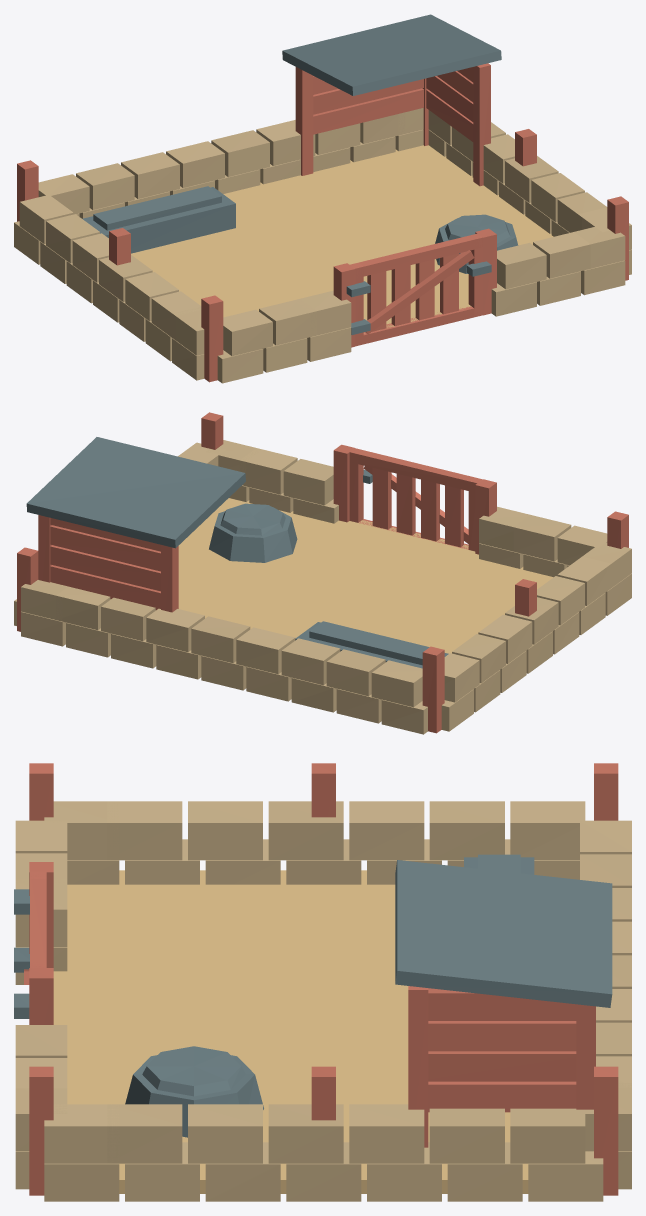
The model's file is Sheepfold.glb.
The picture shows the model from 3 angles, top to bottom: view 1: azimuth 30°, elevation 25°; view 2: azimuth 150°, elevation 25°; view 3: azimuth 270°, elevation 25°; orthographic projection. The views are drawn at different scales.
Visible parts, largest first — view 1: sheepfold-static-sheepfold-dry-fieldstone, sheepfold-static-sheepfold-compacted-earth, sheepfold-static-sheepfold-weathered-timber, sheepfold-static-sheepfold-galvanized-fixtures, sheepfold-static-sheepfold-dark-iron-hardware; view 2: sheepfold-static-sheepfold-dry-fieldstone, sheepfold-static-sheepfold-compacted-earth, sheepfold-static-sheepfold-weathered-timber, sheepfold-static-sheepfold-galvanized-fixtures, sheepfold-static-sheepfold-dark-iron-hardware; view 3: sheepfold-static-sheepfold-dry-fieldstone, sheepfold-static-sheepfold-compacted-earth, sheepfold-static-sheepfold-weathered-timber, sheepfold-static-sheepfold-galvanized-fixtures, sheepfold-static-sheepfold-dark-iron-hardware.
Boxes of the visible parts, box(x1,y1,x2,y2) form: sheepfold-static-sheepfold-dry-fieldstone: box(14, 108, 631, 383); sheepfold-static-sheepfold-compacted-earth: box(131, 145, 553, 333); sheepfold-static-sheepfold-weathered-timber: box(17, 63, 628, 382); sheepfold-static-sheepfold-galvanized-fixtures: box(82, 14, 518, 273); sheepfold-static-sheepfold-dark-iron-hardware: box(93, 186, 510, 334); sheepfold-static-sheepfold-dry-fieldstone: box(14, 440, 631, 734); sheepfold-static-sheepfold-compacted-earth: box(178, 498, 553, 653); sheepfold-static-sheepfold-weathered-timber: box(17, 412, 628, 733); sheepfold-static-sheepfold-galvanized-fixtures: box(26, 437, 448, 668); sheepfold-static-sheepfold-dark-iron-hardware: box(220, 469, 429, 665); sheepfold-static-sheepfold-dry-fieldstone: box(15, 801, 631, 1201); sheepfold-static-sheepfold-compacted-earth: box(53, 870, 528, 1193); sheepfold-static-sheepfold-weathered-timber: box(24, 763, 618, 1195); sheepfold-static-sheepfold-galvanized-fixtures: box(125, 857, 612, 1137); sheepfold-static-sheepfold-dark-iron-hardware: box(14, 854, 520, 1096).
Size of the model in its own units: 5.04 by 1.58 by 4.05.
